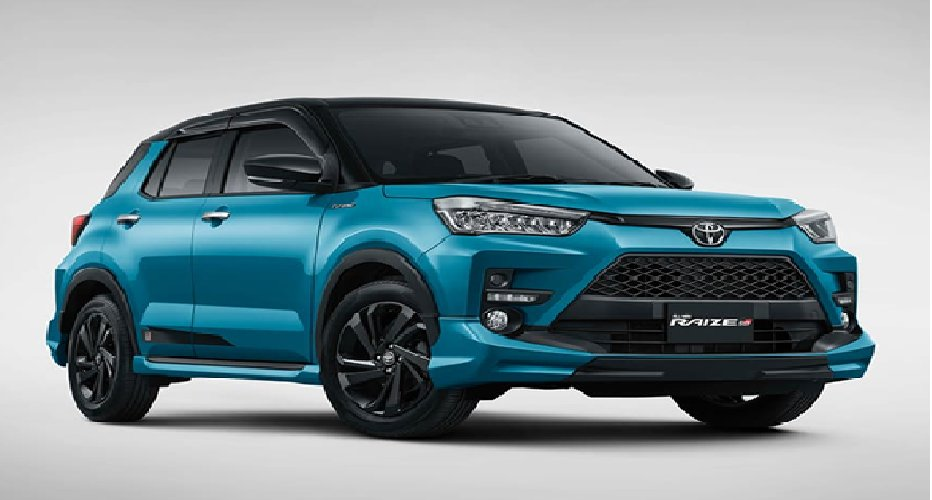mobil: (52, 87, 874, 459)
